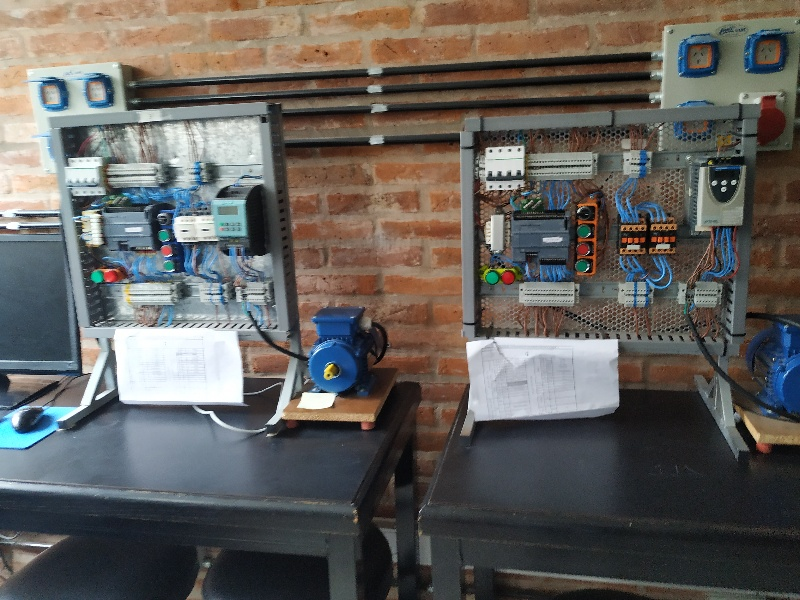Tablero 3: (56, 122, 281, 328)
Tablero 4: (466, 122, 750, 350)
